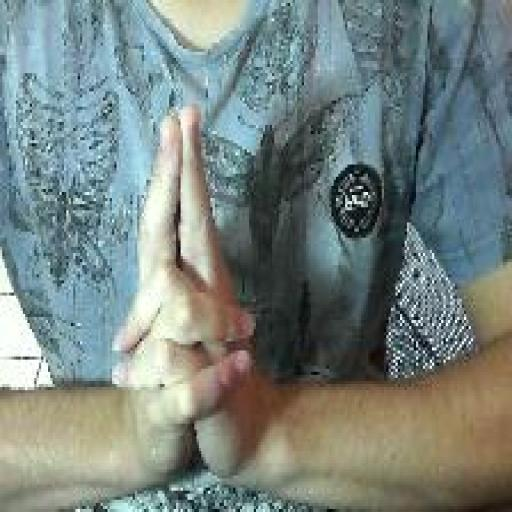Tora -tiger-: (108, 98, 260, 490)
